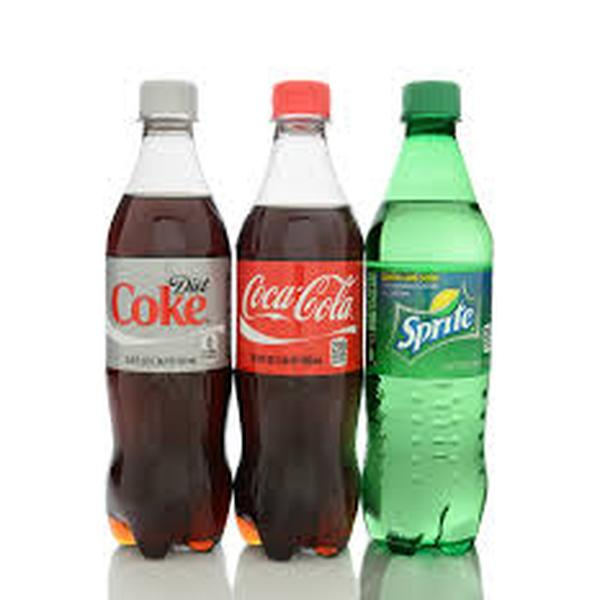tutuma: (71, 53, 234, 574), (373, 39, 502, 561), (242, 51, 362, 569)
